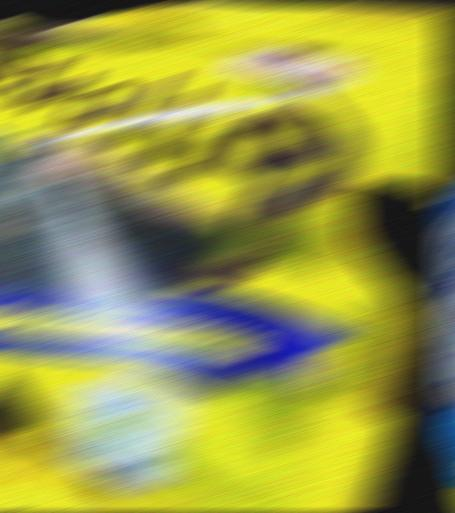bear brand: (440, 74, 455, 513)
pillows: (0, 0, 454, 513)
